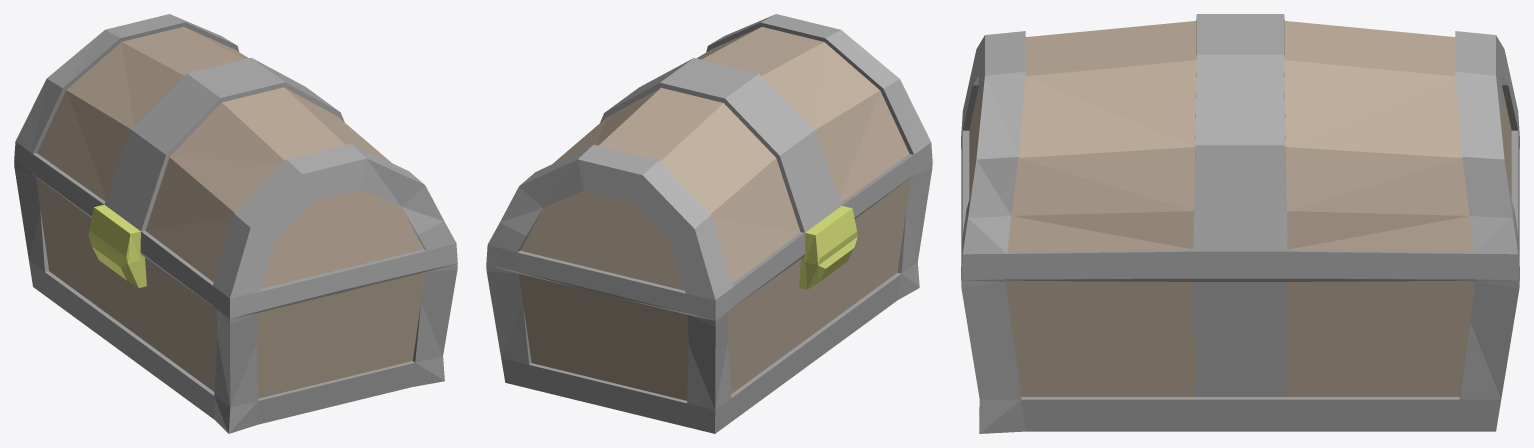
The model's file is Low Poly Chest.fbx.
3 renders of one model, left to right at view 1: azimuth 30°, elevation 25°; view 2: azimuth 150°, elevation 25°; view 3: azimuth 270°, elevation 25°, orthographic. The views are drawn at different scales.
Parts seen in each view (by area): view 1: pCylinder2; view 2: pCylinder2; view 3: pCylinder2.
Part boxes in pixels (box(x1,y1,x2,y2)): pCylinder2: box(14, 14, 457, 433); pCylinder2: box(486, 14, 932, 433); pCylinder2: box(961, 14, 1519, 433).
Size of the model in its own units: 2.43 by 2.44 by 3.73.
